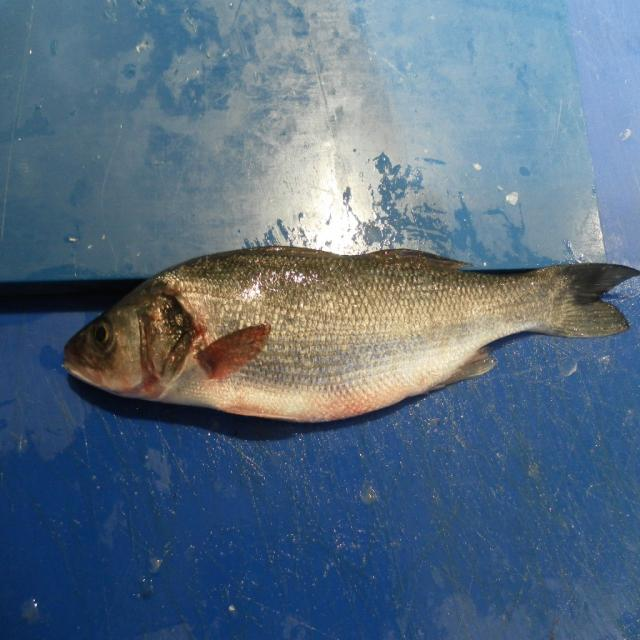Sea-Bass-levrek-: (61, 245, 640, 427)
